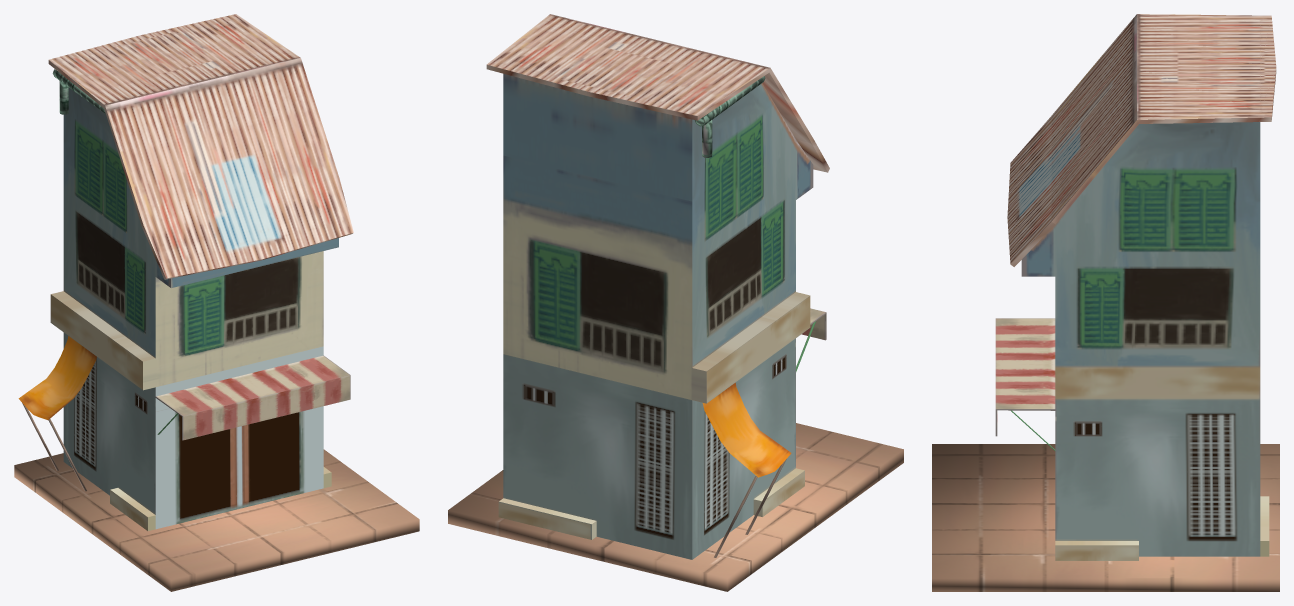
File: restaurant03.fbx
3 views of the same model, side by side, from view 1: azimuth 30°, elevation 25°; view 2: azimuth 150°, elevation 25°; view 3: azimuth 270°, elevation 25° (orthographic). The views are drawn at different scales.
Parts seen in each view (by area): view 1: Restaurant03; view 2: Restaurant03; view 3: Restaurant03.
Boxes of the visible parts, x1=… form: Restaurant03: x1=14, y1=14, x2=419, y2=591; Restaurant03: x1=448, y1=14, x2=903, y2=591; Restaurant03: x1=932, y1=14, x2=1279, y2=591.
Bounding box in the file's own units: 500 × 758 × 522.
1 material, 1 textured.
